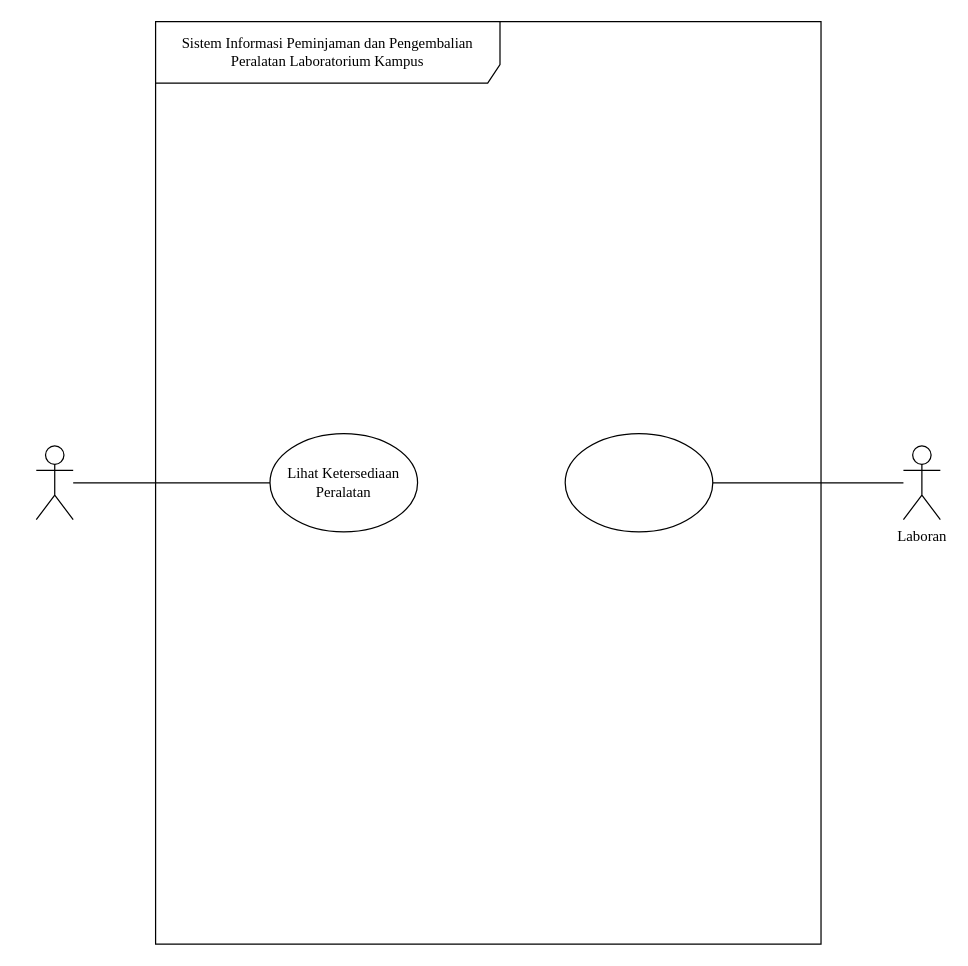
The diagram is 968 pixels wide and 966 high, and some of its shapes have lost their labels. The centre of each missing label's shape, as x and y in pixels:
"Kelola Data Peralatan" goes at point 638,482.
"Mahasiswa" goes at point 54,482.
